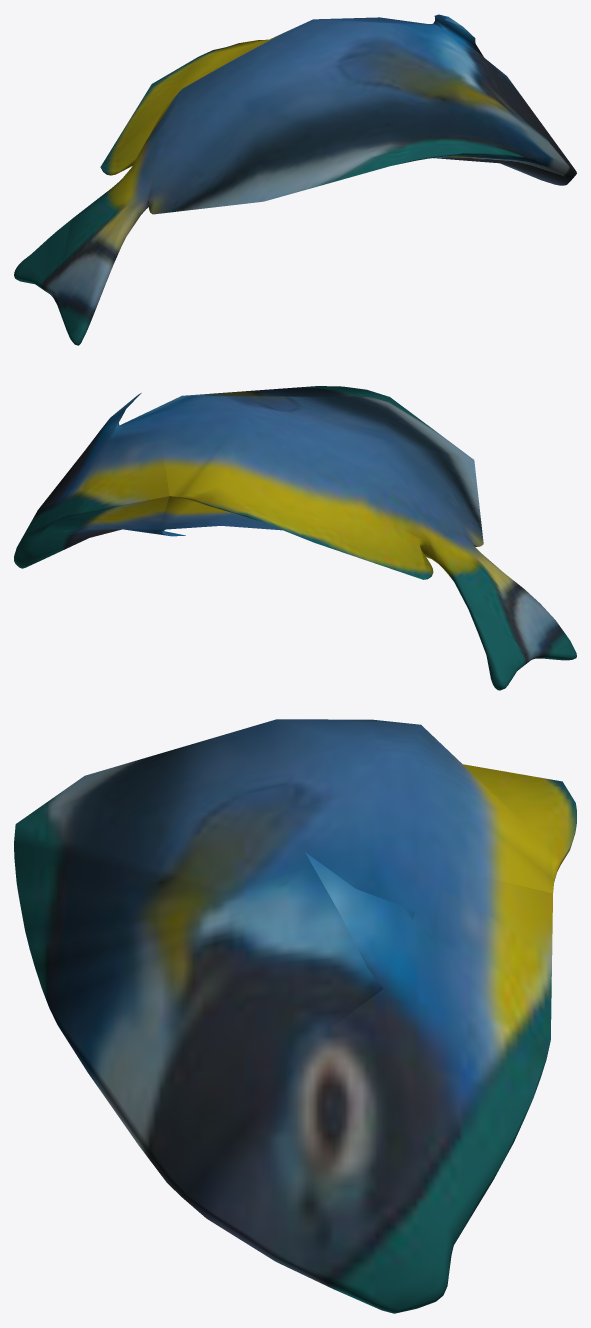
File: floppyfish.obj
3 renders of one model, top to bottom at view 1: azimuth 30°, elevation 25°; view 2: azimuth 150°, elevation 25°; view 3: azimuth 270°, elevation 25°, orthographic. The views are drawn at different scales.
Visible parts, largest first — view 1: Handle1; view 2: Handle1; view 3: Handle1.
Boxes of the visible parts, x1,y1,x2,y2 form: Handle1: (14,14,576,345); Handle1: (14,386,576,690); Handle1: (14,719,576,1313).
Bounding box in the file's own units: 1.46 × 0.5804 × 0.7878.
1 material, 1 textured.
